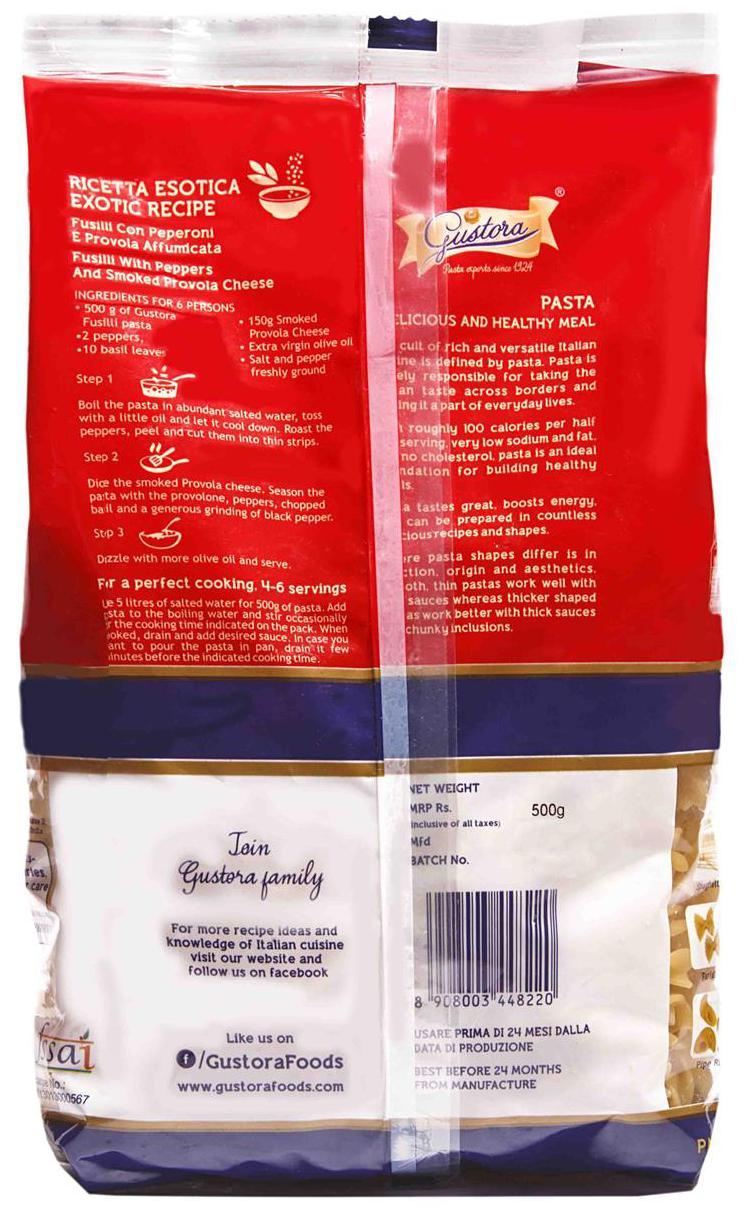fssai: (38, 1022, 97, 1073)
